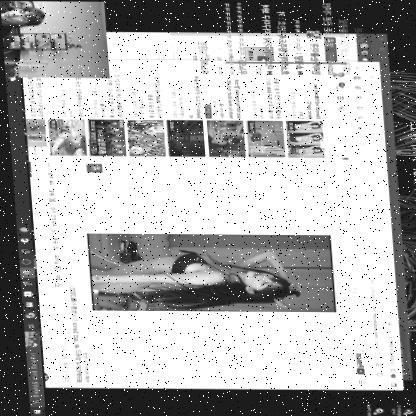streamer: (0, 0, 48, 40)
